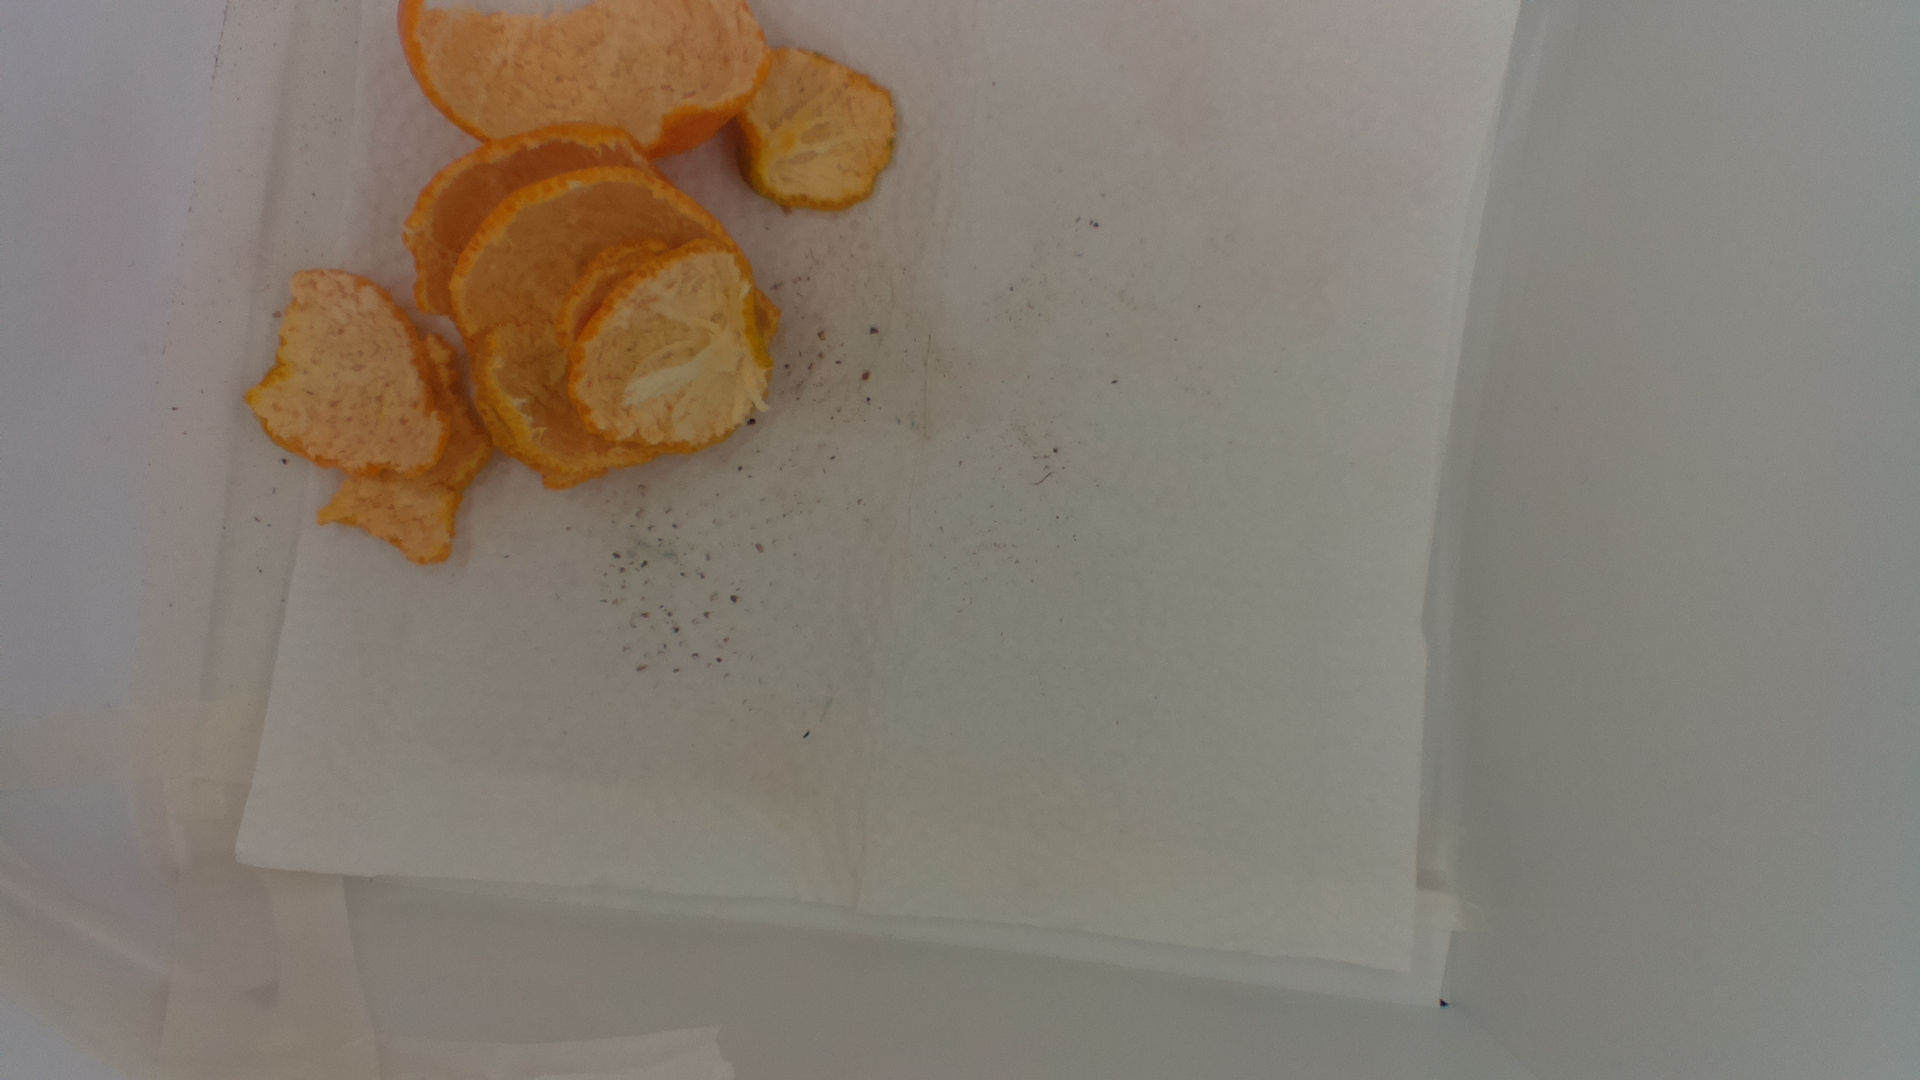fruit: (241, 1, 928, 575)
